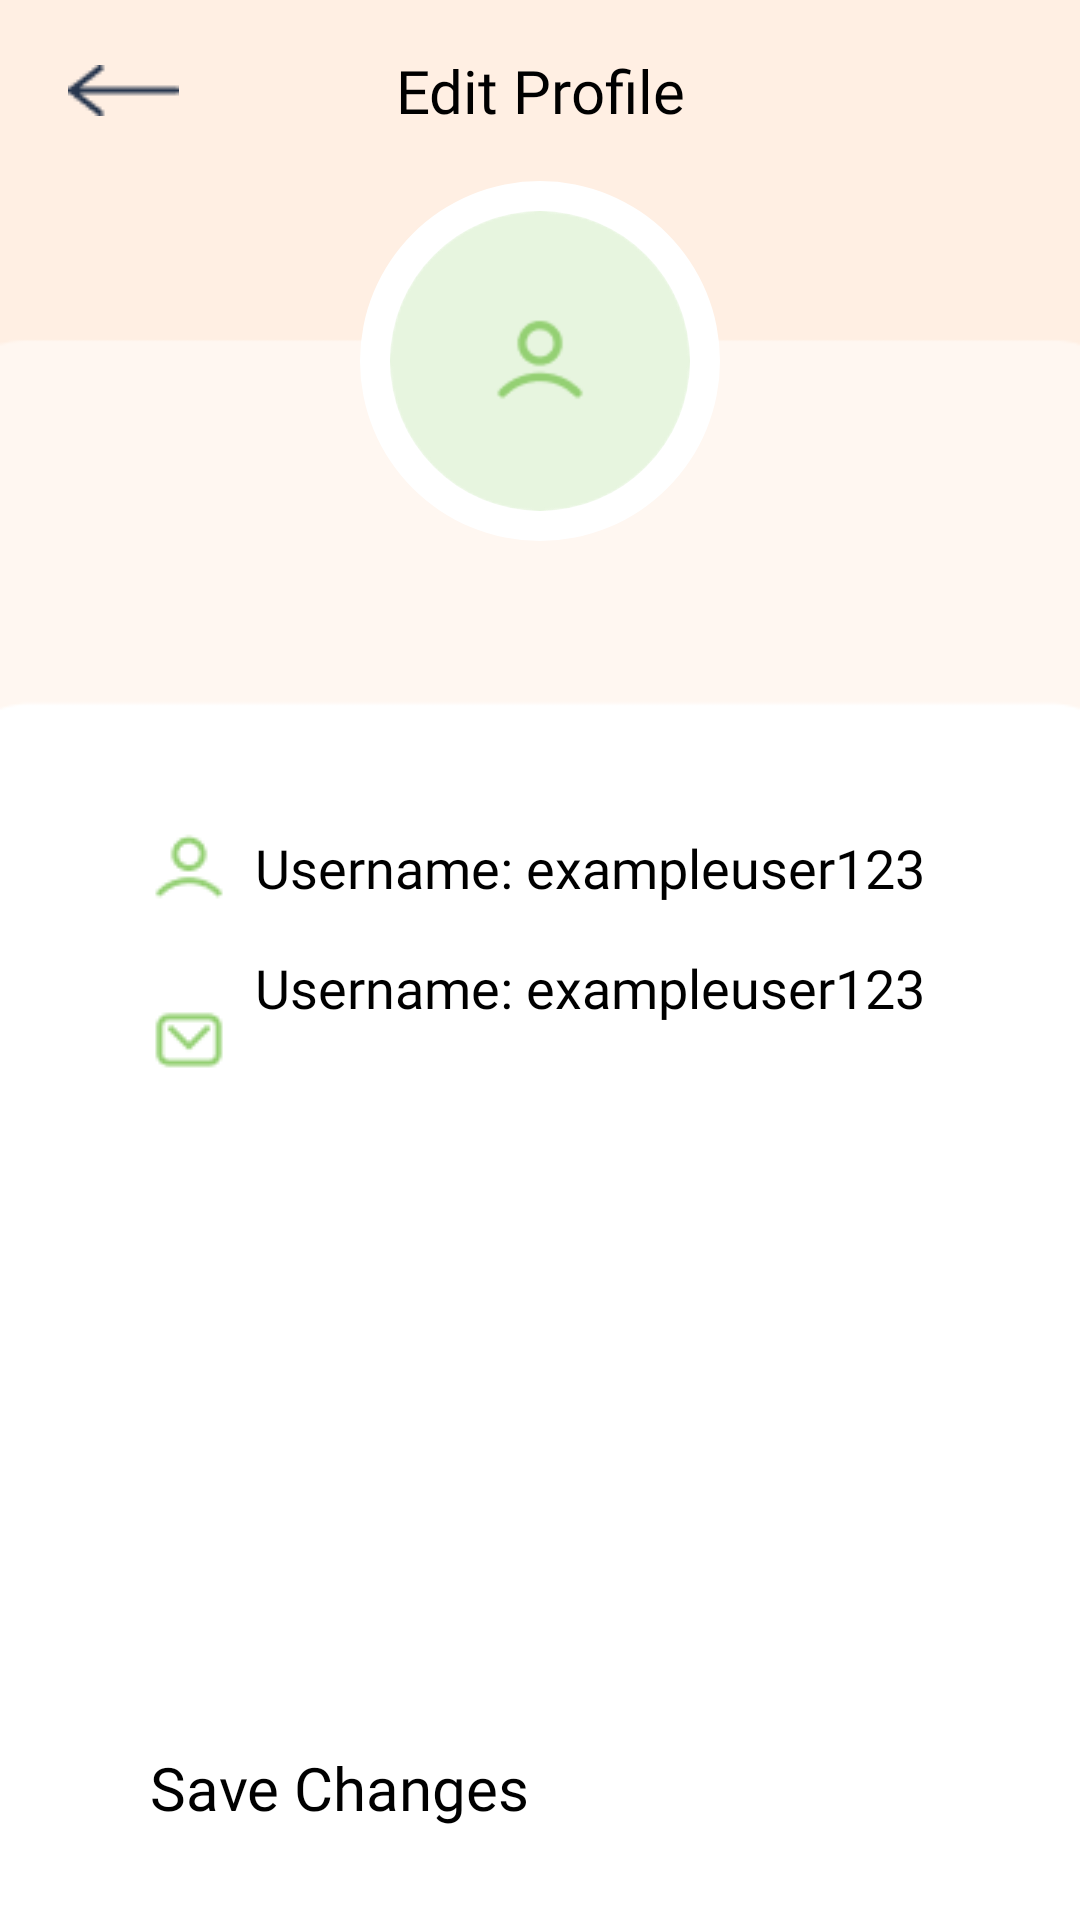

Where icons sit on this 1080 × 1920 app screen, as [x1,y1,x2,y2]:
back: [68,65,179,116]
email: [155,1012,223,1068]
